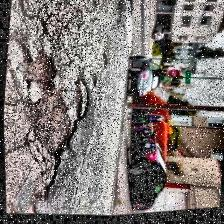pothole: (30, 76, 92, 168)
